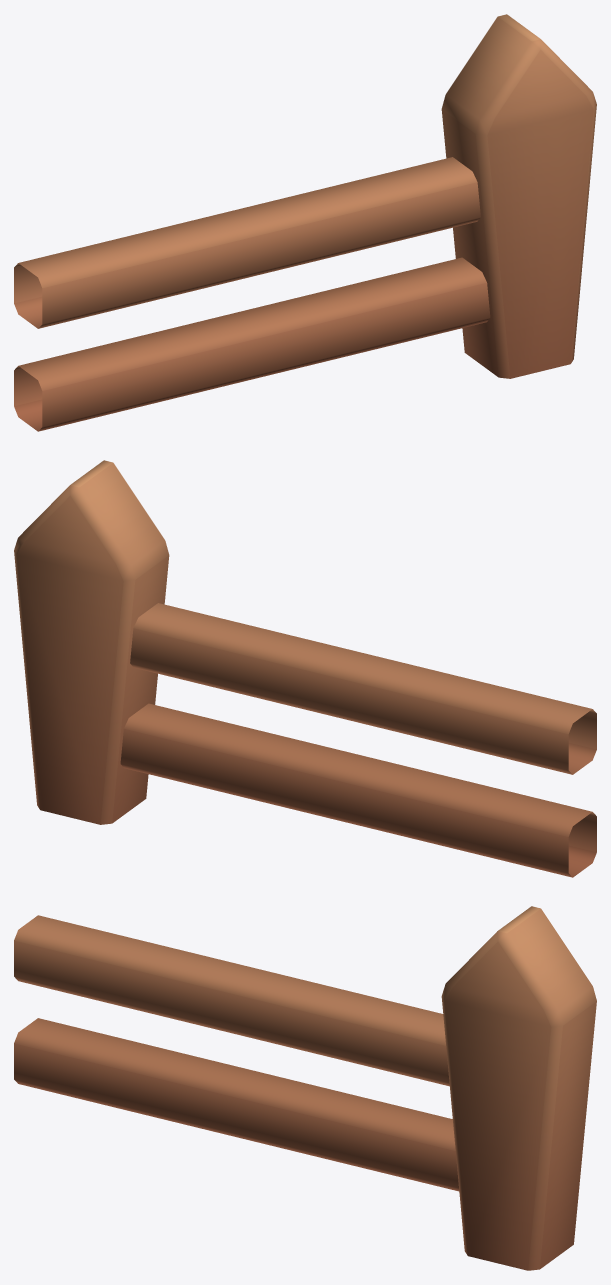
File: fence_open_wide_long.fbx
3 views of the same model, one above another, from view 1: azimuth 30°, elevation 25°; view 2: azimuth 150°, elevation 25°; view 3: azimuth 330°, elevation 25° (orthographic).
Visible parts, largest first — view 1: fence_open_wide_long; view 2: fence_open_wide_long; view 3: fence_open_wide_long.
Part boxes in pixels (left/top/right/bottom): fence_open_wide_long: left=14, top=14, right=596, bottom=431; fence_open_wide_long: left=14, top=460, right=596, bottom=877; fence_open_wide_long: left=14, top=906, right=596, bottom=1270.
Bounding box in the file's own units: 2.25 × 1.28 × 0.3.
